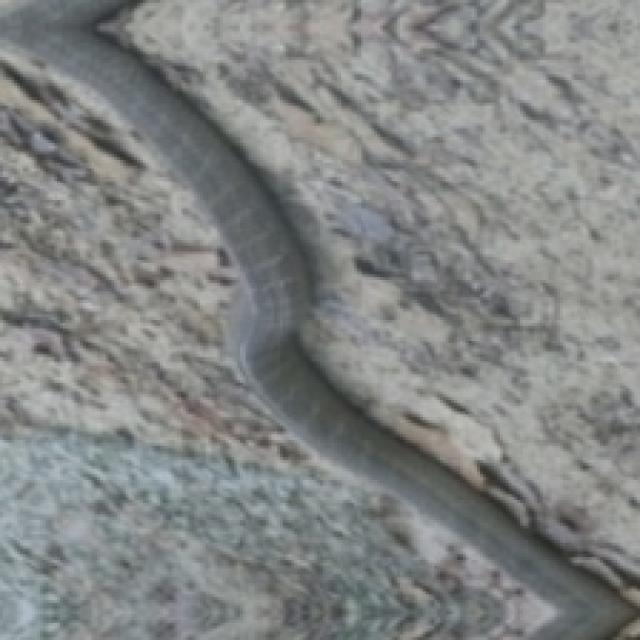king cobra: (0, 0, 631, 637)
